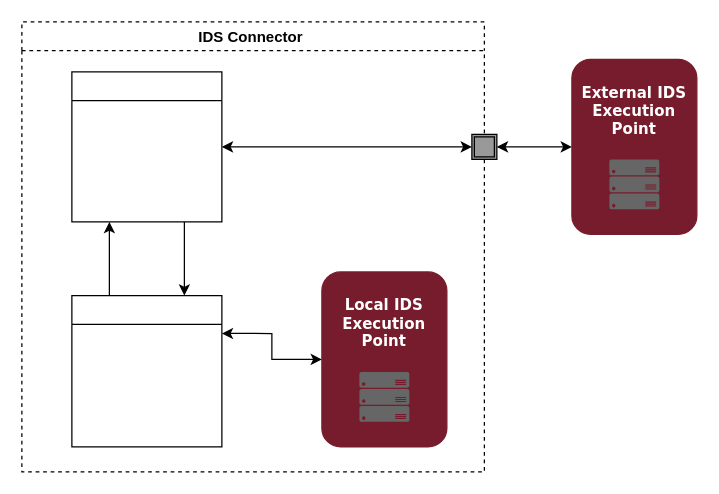
Some shapes in this 719 by 494 pixel diagram are drawn without their labels. Each missing label, with the centre of its shape:
"IDS Connector Core" belongs at [146,146].
"UC Container" belongs at [146,370].
